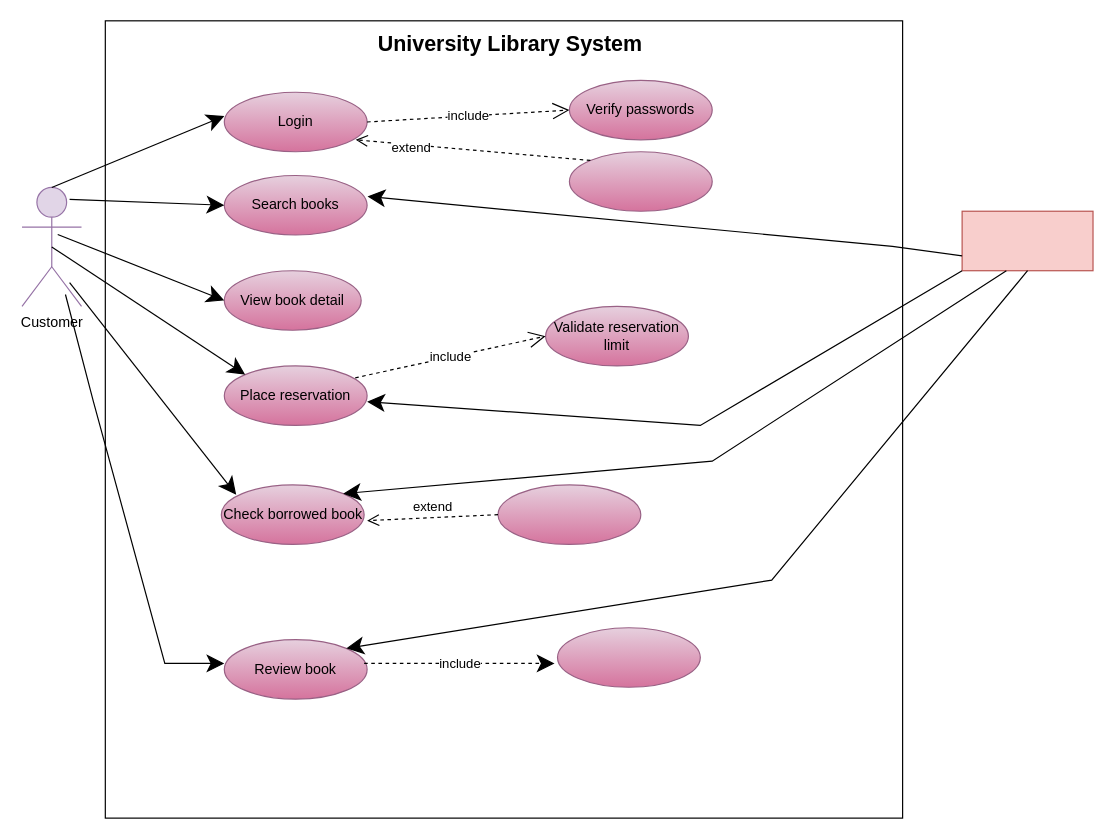
Image size: 1114x839. Some labels were removed from this diagram. The shapes that lost their labels are listed below. From the top down, each one's centre as x and y in pixels, then its label:
pixel 640 181: Display login errror
pixel 1027 240: Library DBMS
pixel 569 514: Send due date reminder
pixel 628 657: Validate renewal eligibility
